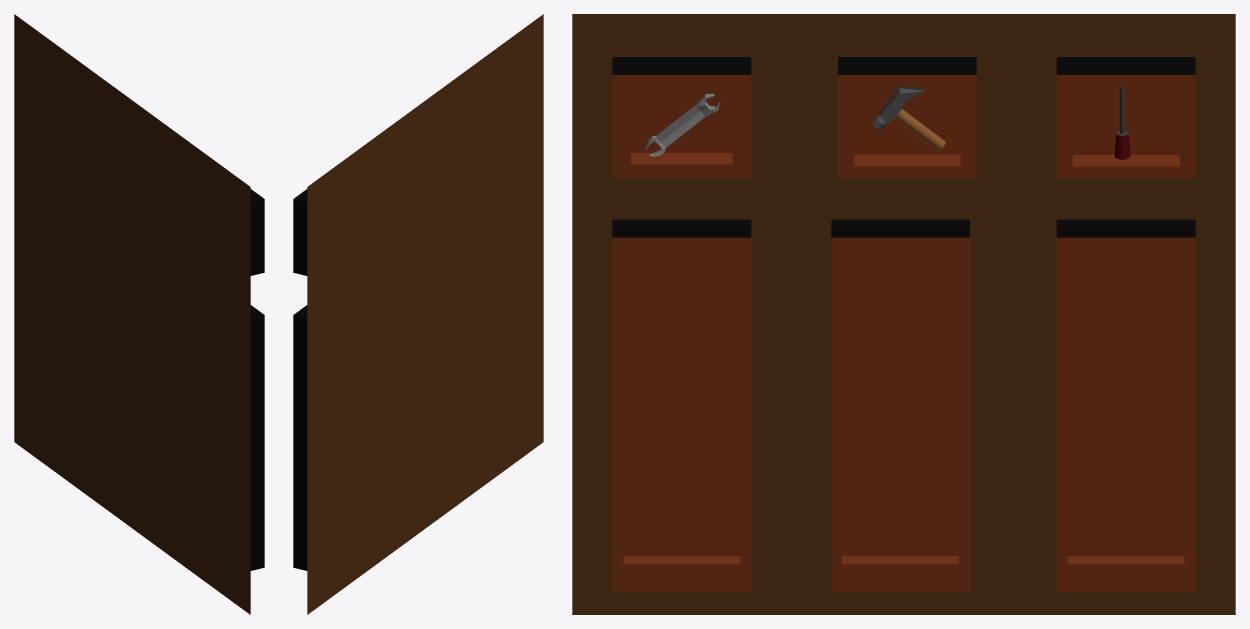
The model's file is numberLock.fbx.
3 renders of one model, left to right at view 1: azimuth 30°, elevation 25°; view 2: azimuth 150°, elevation 25°; view 3: azimuth 270°, elevation 25°, orthographic. The views are drawn at different scales.
Visible parts, largest first — view 1: Plane, Plane.001, Plane.006; view 2: Plane, Plane.003, Plane.005; view 3: Plane, Plane.001, Plane.003, Plane.002, Plane.005, Plane.006, Plane.004, Hammer, Wrench.
Boxes of the visible parts, <box> form: Plane: <box>14,14,250,614</box>; Plane.001: <box>250,305,264,570</box>; Plane.006: <box>250,189,264,275</box>; Plane: <box>307,14,543,614</box>; Plane.003: <box>293,305,307,570</box>; Plane.005: <box>293,189,307,275</box>; Plane: <box>572,14,1235,614</box>; Plane.001: <box>612,219,751,592</box>; Plane.003: <box>1056,219,1195,592</box>; Plane.002: <box>831,219,969,592</box>; Plane.005: <box>1056,57,1195,178</box>; Plane.006: <box>612,57,751,178</box>; Plane.004: <box>838,57,976,178</box>; Hammer: <box>871,86,945,150</box>; Wrench: <box>645,94,720,156</box>.
Bounding box in the file's own units: 14.06 × 200 × 200.
